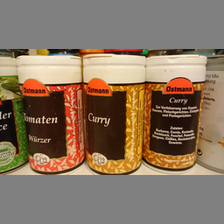spices: (82, 53, 147, 174), (17, 55, 83, 174), (143, 54, 207, 172)
